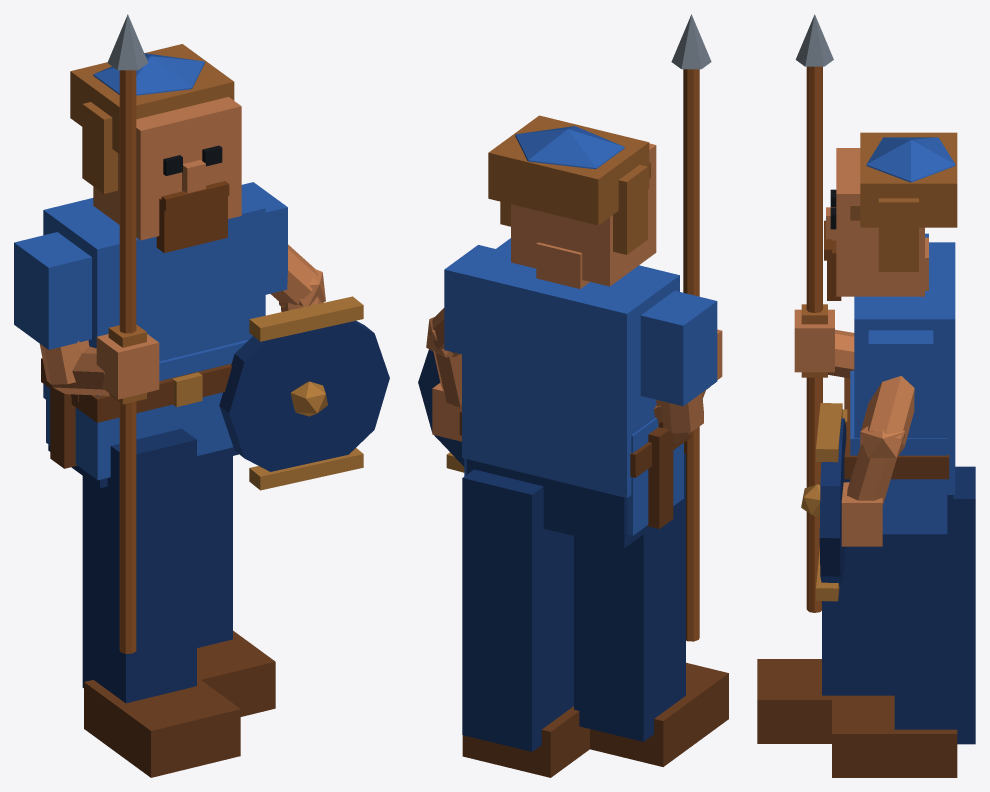
Rendered from teuton_spearman.glb.
3 renders of one model, left to right at view 1: azimuth 30°, elevation 25°; view 2: azimuth 150°, elevation 25°; view 3: azimuth 270°, elevation 25°, orthographic. The views are drawn at different scales.
Parts seen in each view (by area): view 1: 01_Gamba_Sinistra_Avanti, 11_Tunica_Blu_Busto, 40_Scudo_Rotondo_Grande, 03_Stivale_Sinistro, 21_Viso, 60_Asta_Lancia, 50_Manica_Sinistra_Blu, 02_Gamba_Destra_Indietro, 26_Capelli, 04_Stivale_Destro, 12_Tunica_Blu_Falda_Sinistra, 52_Mano_Sinistra_Lancia (+18 smaller); view 2: 11_Tunica_Blu_Busto, 02_Gamba_Destra_Indietro, 01_Gamba_Sinistra_Avanti, 26_Capelli, 50_Manica_Sinistra_Blu, 60_Asta_Lancia, 21_Viso, 03_Stivale_Sinistro, 10_Bacino, 04_Stivale_Destro, 31_Cappuccio_Pelle, 27_Capelli_Lato_Sinistro (+10 smaller); view 3: 02_Gamba_Destra_Indietro, 01_Gamba_Sinistra_Avanti, 11_Tunica_Blu_Busto, 04_Stivale_Destro, 60_Asta_Lancia, 21_Viso, 03_Stivale_Sinistro, 26_Capelli, 13_Tunica_Blu_Falda_Destra, 53_Manica_Destra_Blu, 40_Scudo_Rotondo_Grande, 28_Capelli_Lato_Destro (+15 smaller).
Boxes of the visible parts, box(x1,y1,x2,y2) form: 01_Gamba_Sinistra_Avanti: box(82, 428, 196, 703); 11_Tunica_Blu_Busto: box(43, 191, 265, 399); 40_Scudo_Rotondo_Grande: box(219, 321, 389, 471); 03_Stivale_Sinistro: box(84, 680, 240, 777); 21_Viso: box(93, 97, 241, 240); 60_Asta_Lancia: box(119, 70, 136, 653); 50_Manica_Sinistra_Blu: box(14, 232, 91, 349); 02_Gamba_Destra_Indietro: box(197, 456, 232, 647); 26_Capelli: box(70, 44, 234, 153); 04_Stivale_Destro: box(197, 630, 275, 716); 12_Tunica_Blu_Falda_Sinistra: box(46, 357, 187, 480); 52_Mano_Sinistra_Lancia: box(96, 334, 159, 399); 11_Tunica_Blu_Busto: box(462, 238, 679, 497); 02_Gamba_Destra_Indietro: box(462, 469, 573, 751); 01_Gamba_Sinistra_Avanti: box(574, 453, 685, 741); 26_Capelli: box(488, 115, 649, 225); 50_Manica_Sinistra_Blu: box(640, 290, 717, 406); 60_Asta_Lancia: box(683, 69, 699, 641); 21_Viso: box(511, 143, 656, 286); 03_Stivale_Sinistro: box(590, 662, 728, 766); 10_Bacino: box(466, 459, 675, 548); 04_Stivale_Destro: box(462, 706, 589, 777); 31_Cappuccio_Pelle: box(515, 126, 624, 169); 27_Capelli_Lato_Sinistro: box(613, 164, 647, 254); 02_Gamba_Destra_Indietro: box(894, 466, 975, 744); 01_Gamba_Sinistra_Avanti: box(822, 479, 894, 695); 11_Tunica_Blu_Busto: box(854, 242, 955, 494); 04_Stivale_Destro: box(832, 695, 957, 777); 60_Asta_Lancia: box(806, 66, 822, 612); 21_Viso: box(836, 148, 924, 296); 03_Stivale_Sinistro: box(757, 659, 831, 743); 26_Capelli: box(860, 132, 957, 227); 13_Tunica_Blu_Falda_Destra: box(850, 401, 947, 534); 53_Manica_Destra_Blu: box(868, 330, 933, 420); 40_Scudo_Rotondo_Grande: box(819, 418, 846, 586); 28_Capelli_Lato_Destro: box(878, 198, 918, 271).
Bounding box in the file's own units: 1.7 × 3.78 × 1.08.
